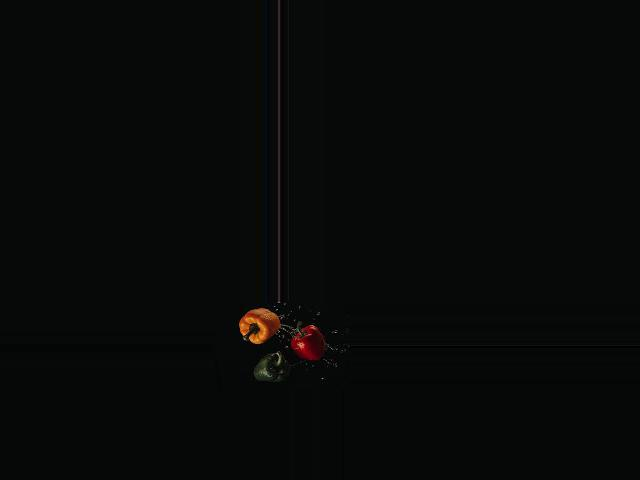bell_pepper: (284, 315, 326, 367)
